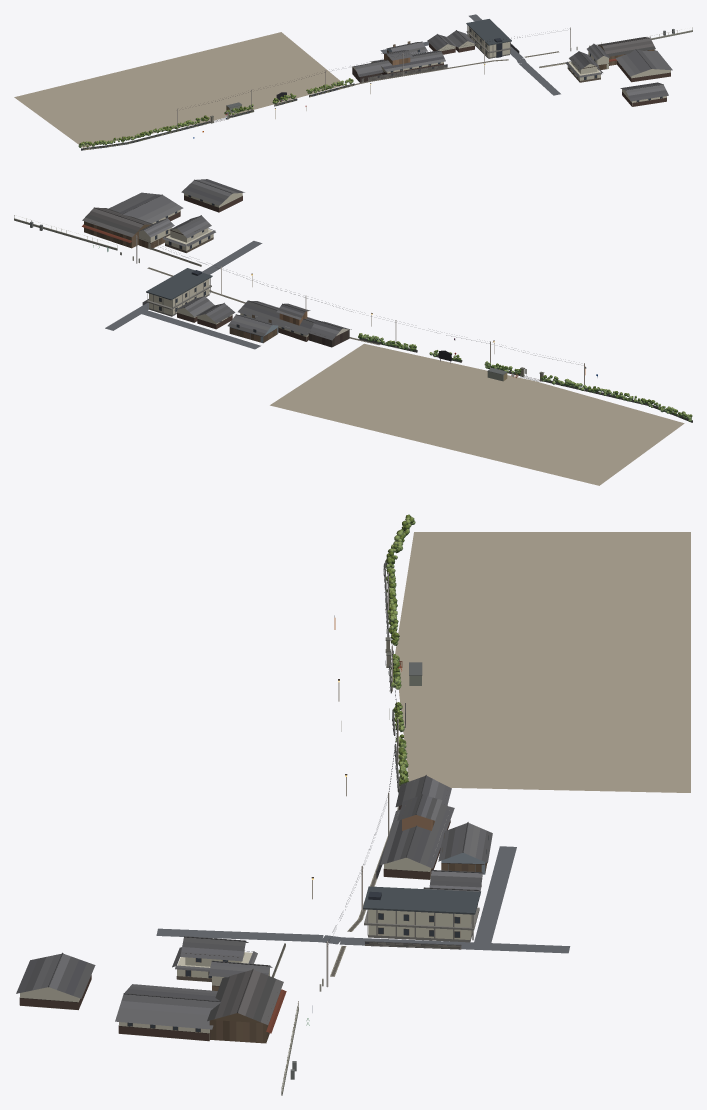
File: ART_InnerMoatStreet.lod.glb
3 views of the same model, one above another, from view 1: azimuth 30°, elevation 25°; view 2: azimuth 150°, elevation 25°; view 3: azimuth 270°, elevation 25° (orthographic). The views are drawn at different scales.
Visible parts, largest first — view 1: ART_InnerMoatStreet; view 2: ART_InnerMoatStreet; view 3: ART_InnerMoatStreet.
Part boxes in pixels (x1,y1,x2,y2): ART_InnerMoatStreet: (14,14,692,150); ART_InnerMoatStreet: (14,179,692,485); ART_InnerMoatStreet: (16,514,690,1095).
Size of the model in its own units: 278 by 10.49 by 140.
